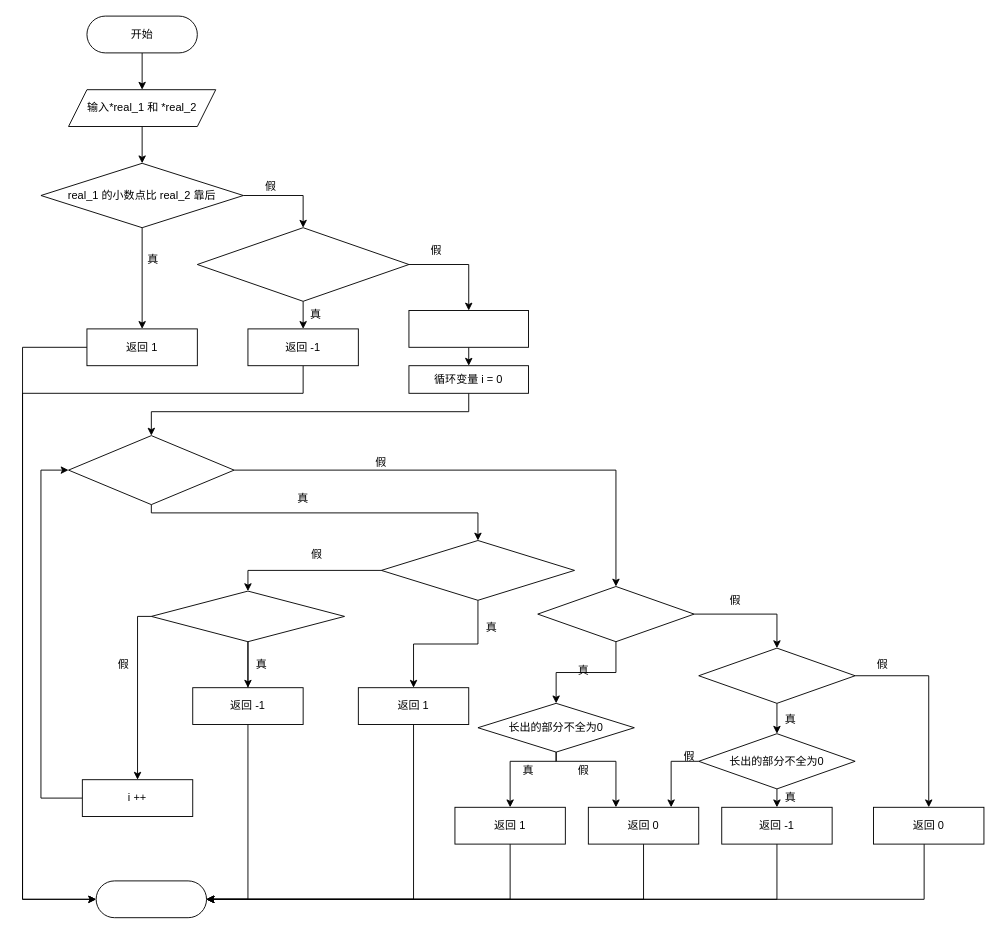
The diagram is 1000 pixels wide and 934 high, and some of its shapes have lost their labels. The shapes that lost their labels are listed below. From the top down, each one's centre as x and y in pixels, then its label:
At point (302, 264): "real_1 的小数点比 real_2 靠前".
At point (468, 328): "min_length = 两个长实数最短长度".
At point (151, 470): "i < min_length + 1 (考虑到同位置小数点）".
At point (477, 570): "real_1 第 i 位 > real_2 第 i 位".
At point (247, 616): "real_1 第 i 位 < real_2 第 i 位".
At point (615, 614): "real_1 长度 > real_2".
At point (776, 675): "real_1 长度 < real_2".
At point (151, 899): "结束".
